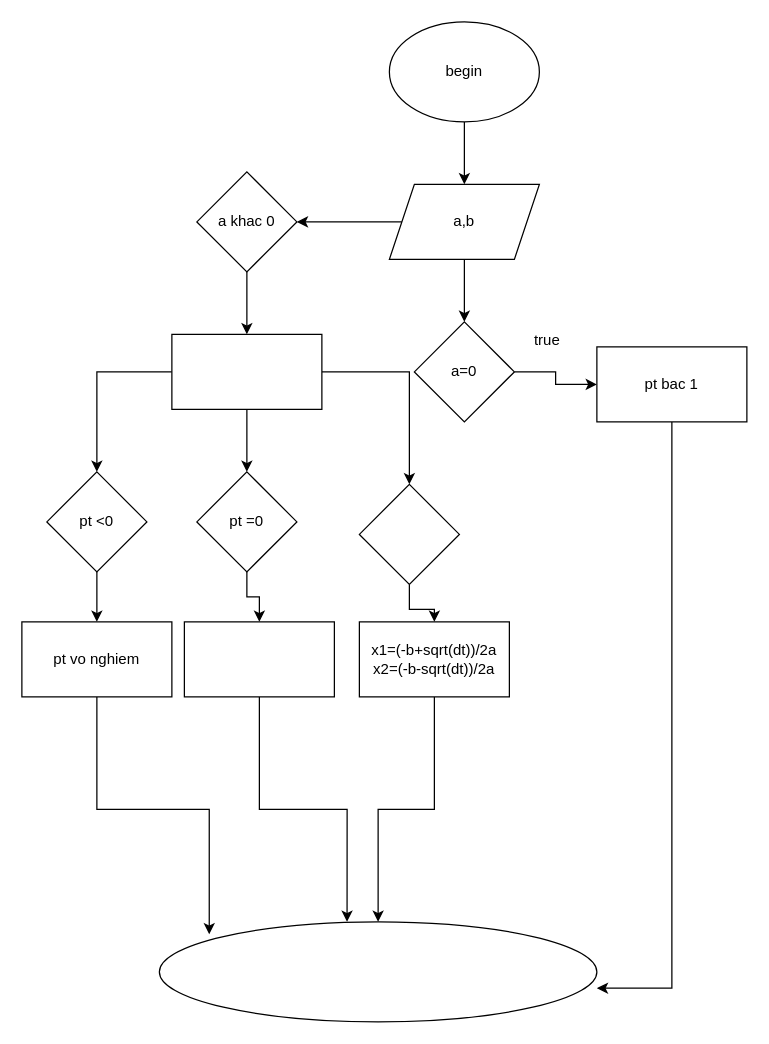
The diagram is 769 pixels wide and 1044 high, and some of its shapes have lost their labels. Each missing label, with the box of its shape:
b binh tru 4ac: (171, 333, 322, 409)
end: (158, 921, 597, 1022)
pt co 2 nghiem phan biet: (358, 483, 459, 584)
pt co nghiem kep : -b/2a: (183, 621, 334, 697)
